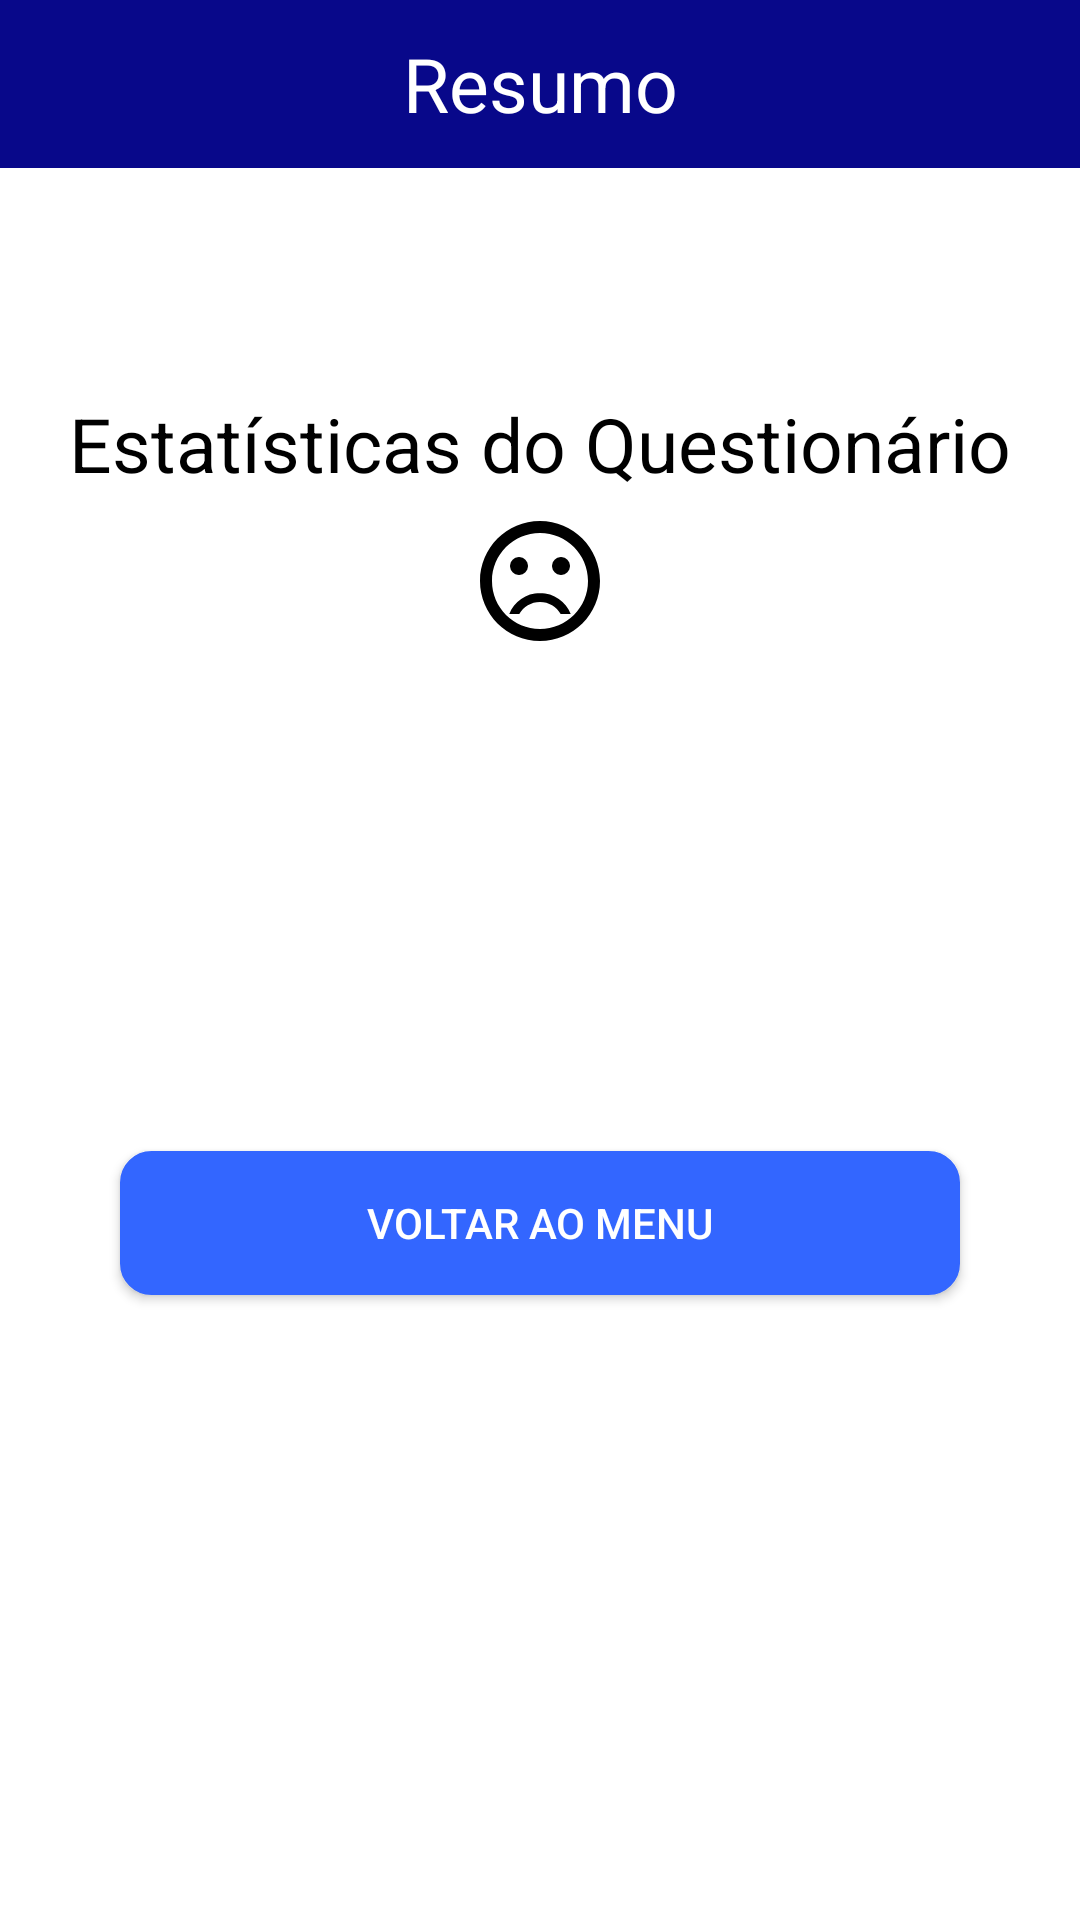

Where icons sit on this 1080x1920 app screen, as (x1, y1, x2, y2):
sad face: (480, 521, 600, 641)
